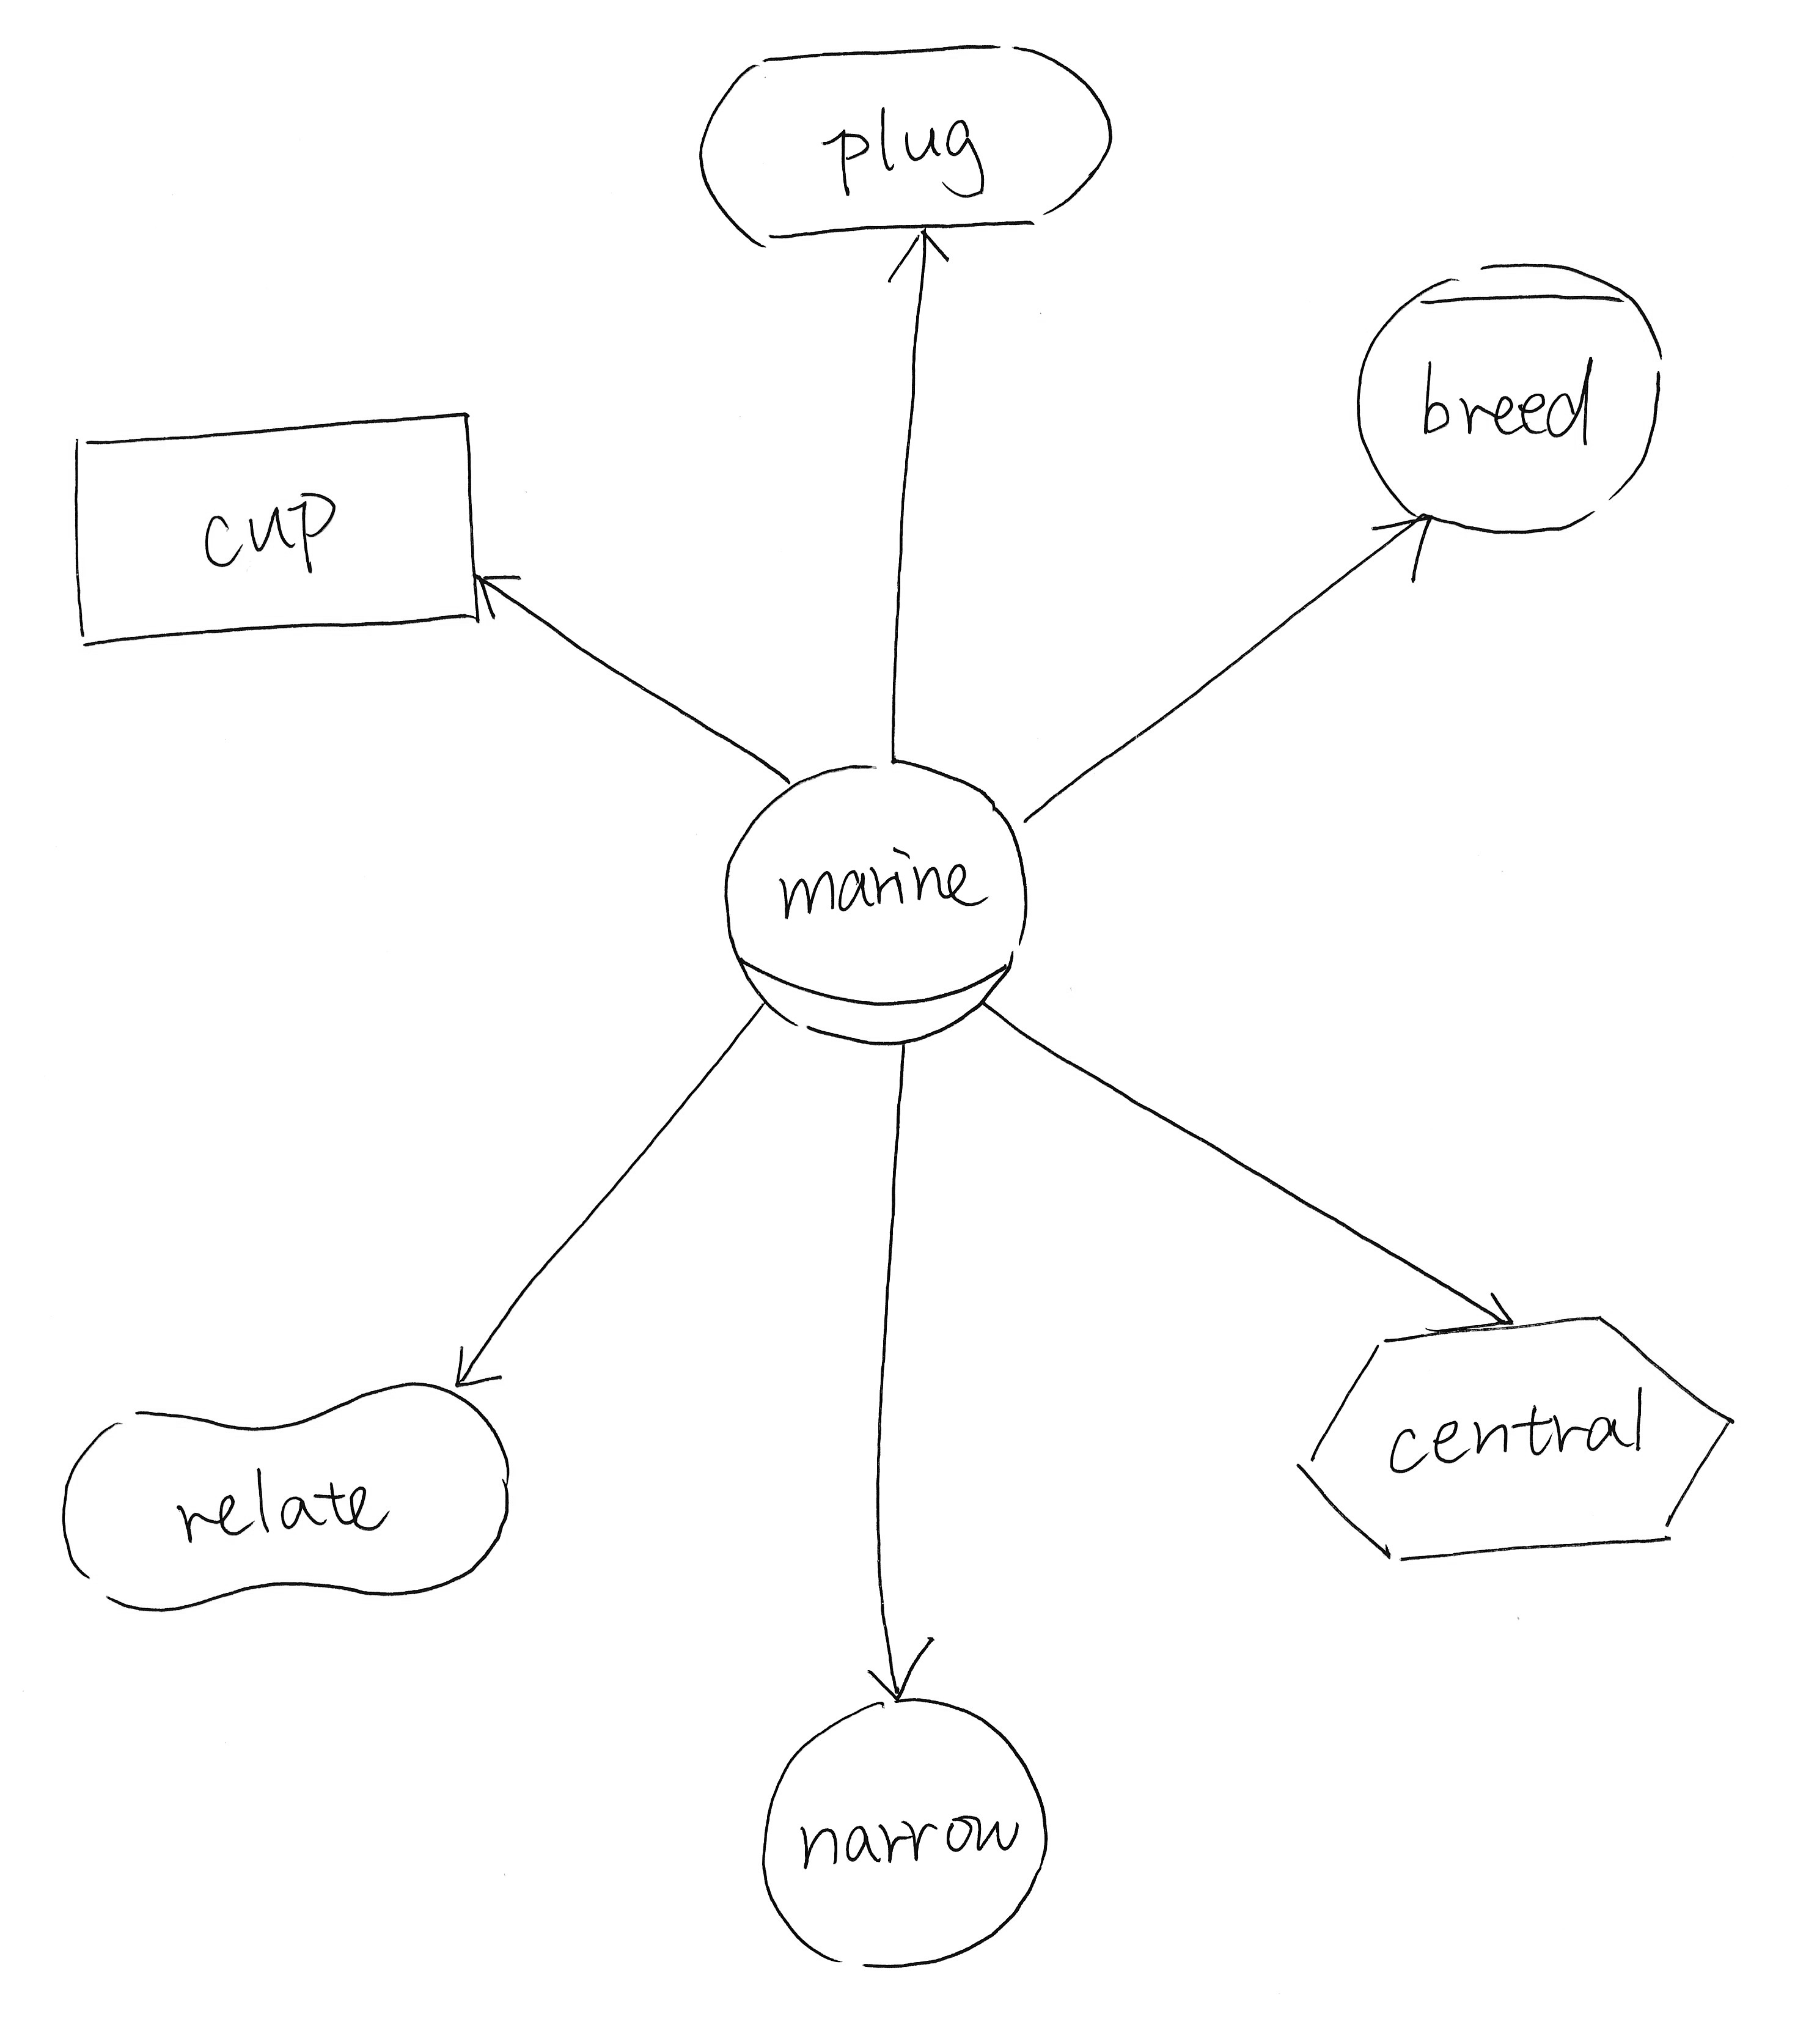actor: (734, 1676, 1058, 1978)
agent: (1339, 242, 1675, 555)
arrow: (838, 1629, 950, 1709), (1426, 1271, 1524, 1346), (1354, 504, 1442, 588), (879, 218, 966, 300), (441, 1318, 511, 1413), (465, 560, 530, 642)
goal: (682, 28, 1133, 260)
quality: (40, 1360, 525, 1625)
resource: (49, 396, 500, 663)
role: (708, 738, 1041, 1055)
task: (1290, 1305, 1745, 1584)
